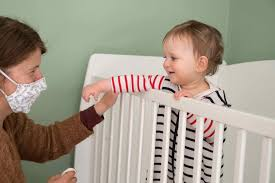with_mask: (3, 51, 49, 117)
without_mask: (162, 40, 204, 85)
